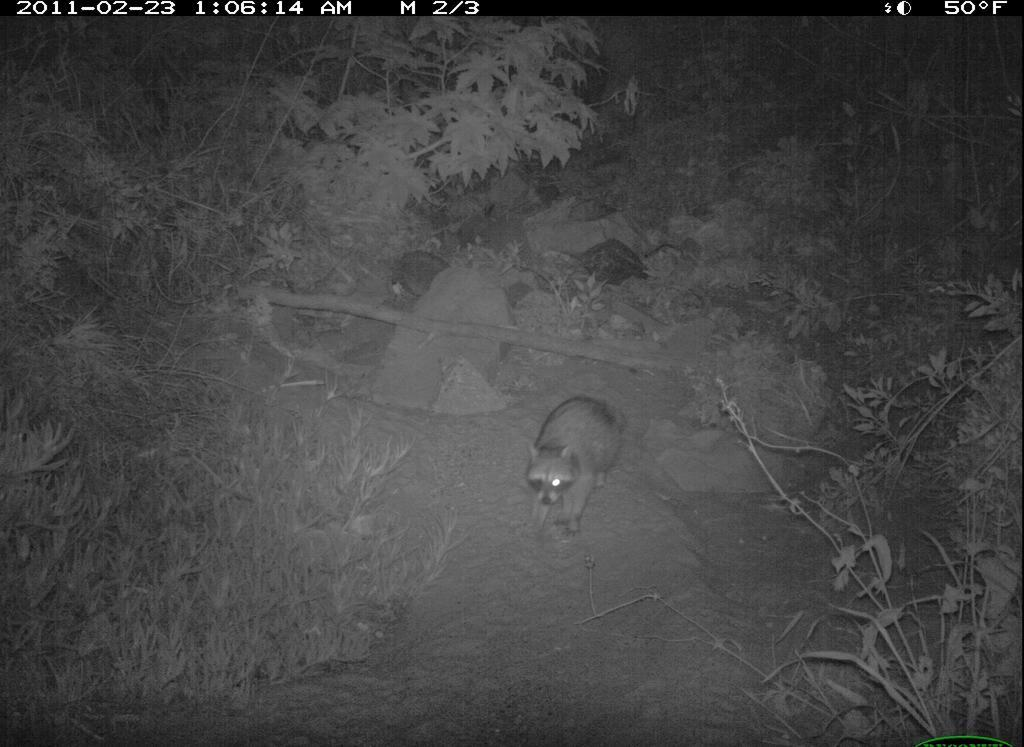raccoon: (505, 370, 646, 538)
